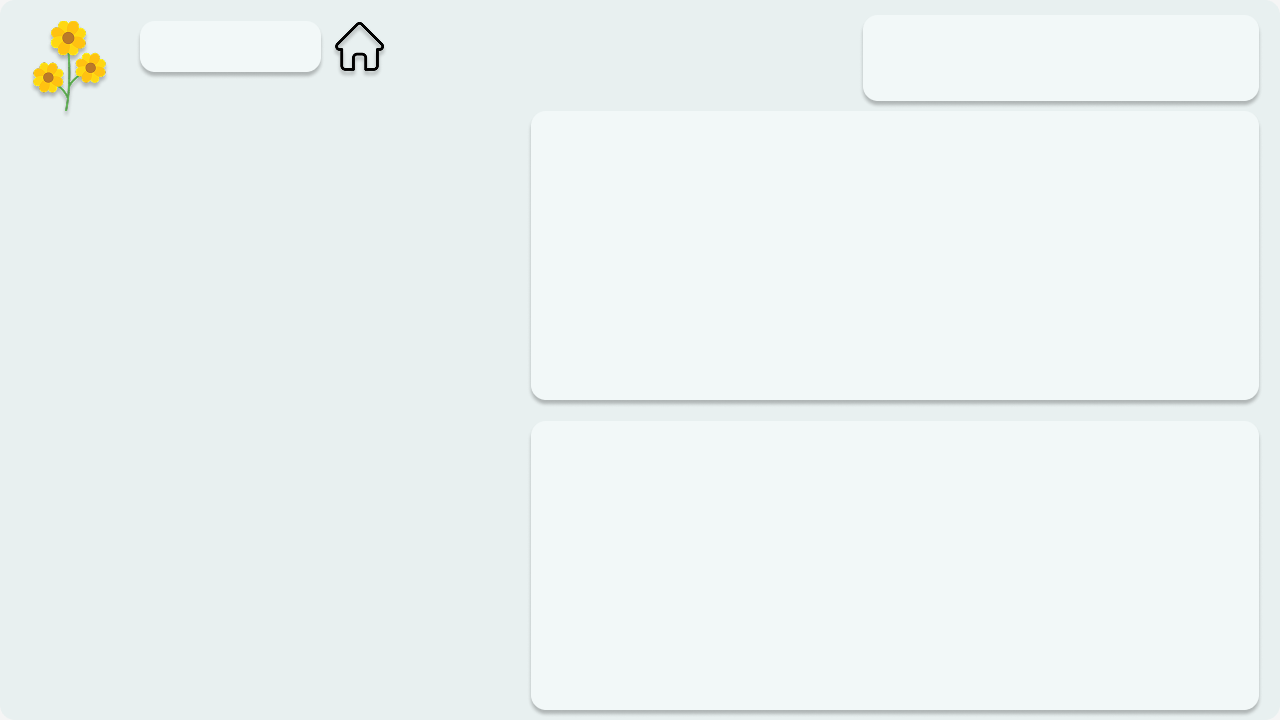

Layout of this report page (visuals, bound fields, positions):
{"tool":"powerbi","page":{"name":"Flowering_Plants","canvas":[1280,720],"ordinal":0},"visuals":[{"type":"slicer","title":"Search_Bar","fields":{"Values":["Flowers_Dataset.Flowers_Name"]},"box":[878,17,374,72],"z":0},{"type":"advancedSlicerVisual","fields":{"Values":["Flowers_Dataset.Flowers_Name"]},"box":[29,241,491,467],"z":1000},{"type":"cardVisual","fields":{"Data":["Min(Flowers_Dataset.Flowers_Name)"]},"box":[29,123,491,118],"z":2000},{"type":"shape","box":[144,26,171,36],"z":3000},{"type":"cardVisual","fields":{"Data":["Min(Flowers_Dataset.Plant_Type)","Min(Flowers_Dataset.Blooming_Season)","Min(Flowers_Dataset.Sun_Needs)","Min(Flowers_Dataset.Water_Needs)","Min(Flowers_Dataset.Maintenance)"]},"box":[544,537,704,159],"z":4000},{"type":"cardVisual","fields":{"Data":["Min(Flowers_Dataset.Soil_Needs)"]},"box":[544,431,699,106],"z":5000},{"type":"cardVisual","title":"Description","fields":{"Data":["Min(Flowers_Dataset.Height)"]},"box":[544,123,708,270],"z":6000}]}

Visuals, with their boxes in screenshot pixels (x1, y1, x2, y2), scaled from the page's 1280x720 canvas onto the 1280x720 screenshot:
"Search_Bar" slicer: bbox(878, 17, 1252, 89)
advancedSlicerVisual - Flowers_Dataset.Flowers_Name: bbox(29, 241, 520, 708)
cardVisual - Min(Flowers_Dataset.Flowers_Name): bbox(29, 123, 520, 241)
shape: bbox(144, 26, 315, 62)
cardVisual - Min(Flowers_Dataset.Plant_Type) x Min(Flowers_Dataset.Blooming_Season): bbox(544, 537, 1248, 696)
cardVisual - Min(Flowers_Dataset.Soil_Needs): bbox(544, 431, 1243, 537)
"Description" cardVisual: bbox(544, 123, 1252, 393)
